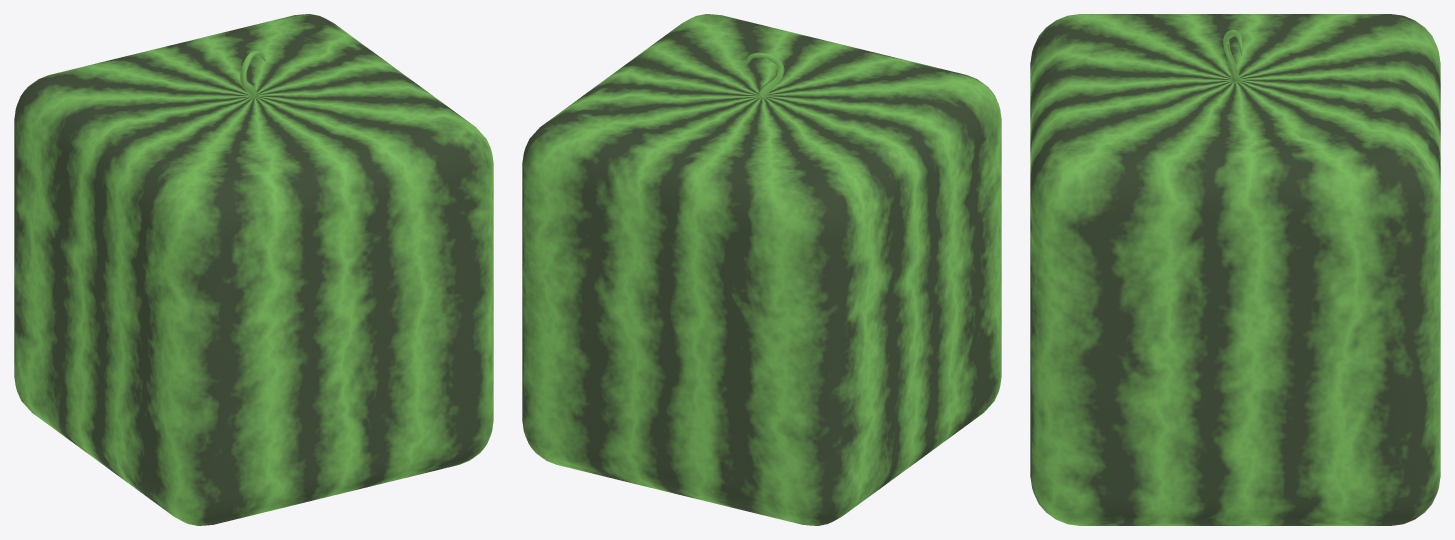
The model's file is SquareWatermelon.glb.
3 renders of one model, left to right at view 1: azimuth 30°, elevation 25°; view 2: azimuth 150°, elevation 25°; view 3: azimuth 270°, elevation 25°, orthographic. The views are drawn at different scales.
Parts seen in each view (by area): view 1: mesh; view 2: mesh; view 3: mesh.
Part boxes in pixels (x1,y1,x2,y2): mesh: (14, 14, 493, 525); mesh: (522, 14, 1001, 525); mesh: (1030, 14, 1440, 525).
Bounding box in the file's own units: 2 × 2.28 × 2.
1 material, 1 textured.
